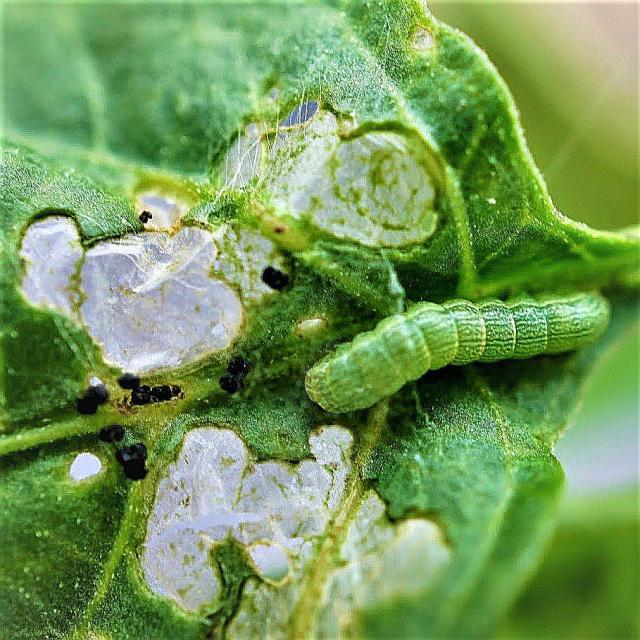Armyworm: (291, 291, 607, 436)
Armyworm_damage: (33, 177, 259, 430), (132, 397, 356, 624), (218, 104, 449, 251)
